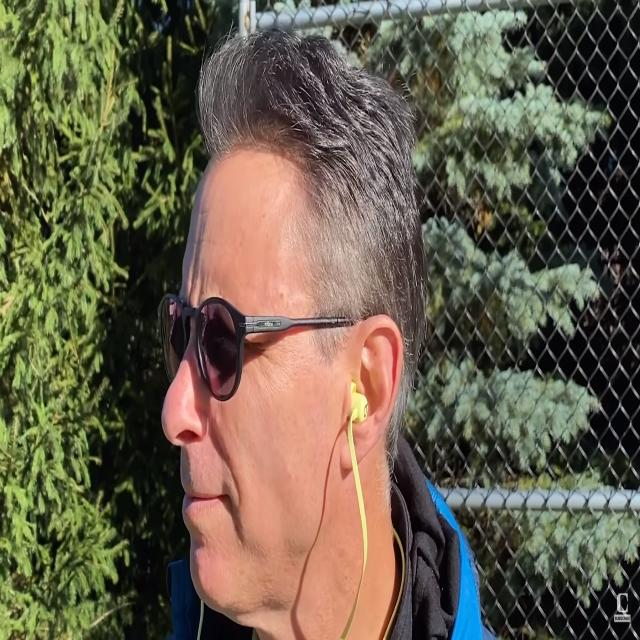Neckband: (197, 378, 369, 640)
